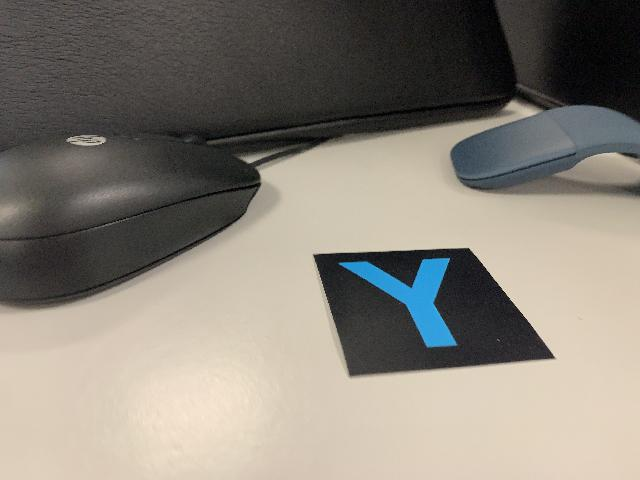alphabet_y: (311, 246, 558, 379)
